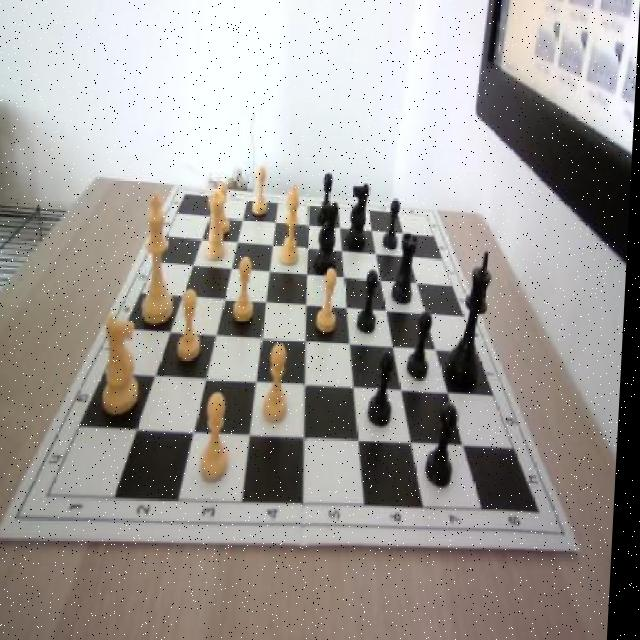black-bishop: (450, 252, 497, 388)
black-king: (313, 196, 345, 276), (348, 180, 372, 252)
black-knight: (430, 403, 462, 487), (372, 349, 401, 426), (409, 311, 436, 380), (360, 268, 384, 335), (385, 198, 403, 252), (320, 171, 338, 221)
black-queen: (392, 228, 421, 304)
black-rook: (281, 184, 306, 268)
white-bishop: (144, 196, 182, 326)
white-king: (103, 317, 146, 418)
white-knight: (202, 392, 238, 482), (263, 342, 297, 426), (177, 288, 208, 364), (233, 257, 260, 325), (320, 266, 344, 332), (215, 183, 235, 233), (253, 168, 273, 216)
white-queen: (206, 191, 232, 261)
